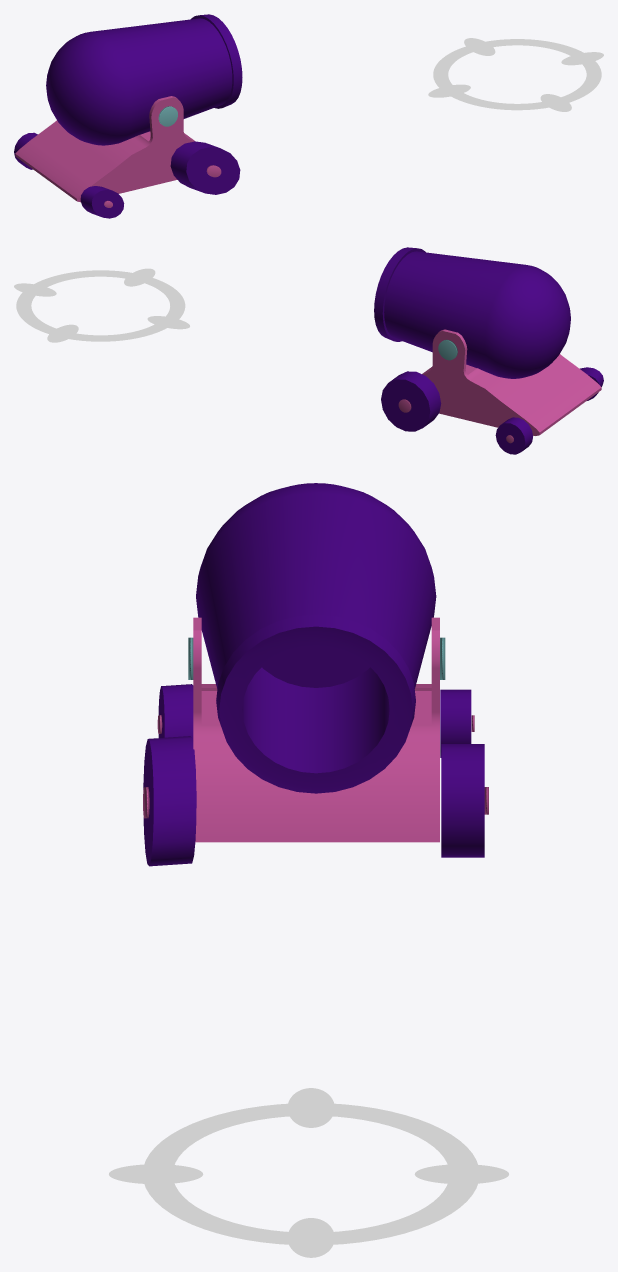
File: Cannon_obstacle.fbx
3 views of the same model, one above another, from view 1: azimuth 30°, elevation 25°; view 2: azimuth 150°, elevation 25°; view 3: azimuth 270°, elevation 25° (orthographic). The views are drawn at different scales.
Parts seen in each view (by area): view 1: cannon_head, cannon_body, Circle, cannon_whell_R.Front, cannon_whell_R.Back, cannon_body_R; view 2: cannon_head, cannon_body, Circle, cannon_whell_L.Front, cannon_whell_L.Back, cannon_body_L; view 3: cannon_head, cannon_body, Circle, cannon_whell_R.Front, cannon_whell_L.Front, cannon_whell_R.Back, cannon_whell_L.Back.
Boxes of the visible parts, x1=… form: cannon_head: x1=46, y1=14, x2=242, y2=145; cannon_body: x1=15, y1=96, x2=194, y2=202; Circle: x1=428, y1=38, x2=603, y2=111; cannon_whell_R.Front: x1=170, y1=141, x2=240, y2=194; cannon_whell_R.Back: x1=80, y1=186, x2=124, y2=218; cannon_body_R: x1=158, y1=106, x2=177, y2=126; cannon_head: x1=374, y1=247, x2=570, y2=378; cannon_body: x1=422, y1=329, x2=601, y2=435; Circle: x1=14, y1=268, x2=189, y2=342; cannon_whell_L.Front: x1=381, y1=371, x2=441, y2=431; cannon_whell_L.Back: x1=495, y1=417, x2=532, y2=454; cannon_body_L: x1=438, y1=339, x2=457, y2=360; cannon_head: x1=196, y1=483, x2=436, y2=793; cannon_body: x1=193, y1=617, x2=439, y2=842; Circle: x1=109, y1=1088, x2=508, y2=1257; cannon_whell_R.Front: x1=143, y1=736, x2=196, y2=866; cannon_whell_L.Front: x1=441, y1=744, x2=484, y2=857; cannon_whell_R.Back: x1=158, y1=684, x2=193, y2=741; cannon_whell_L.Back: x1=440, y1=689, x2=471, y2=757.
Bounding box in the file's own units: 366 × 93.05 × 114.
